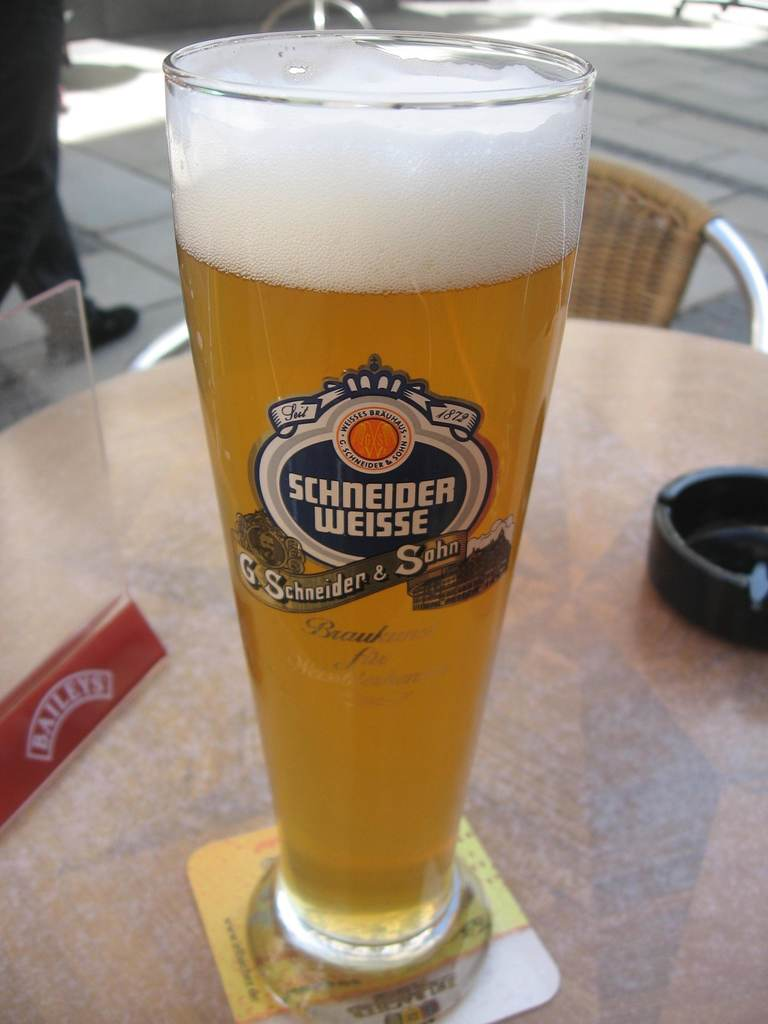Beer: (159, 28, 599, 960)
